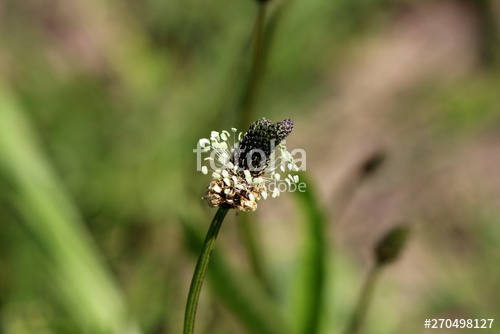buckhorn plantain: (177, 110, 293, 304)
